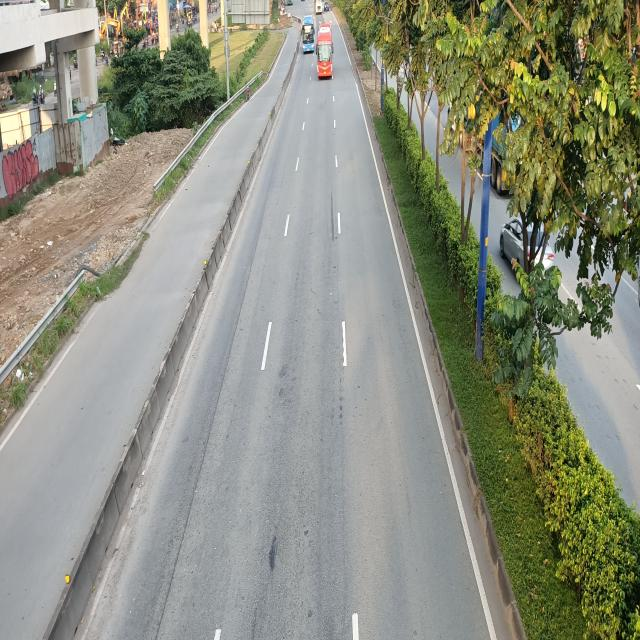coach: (317, 26, 335, 82), (303, 14, 315, 51)
